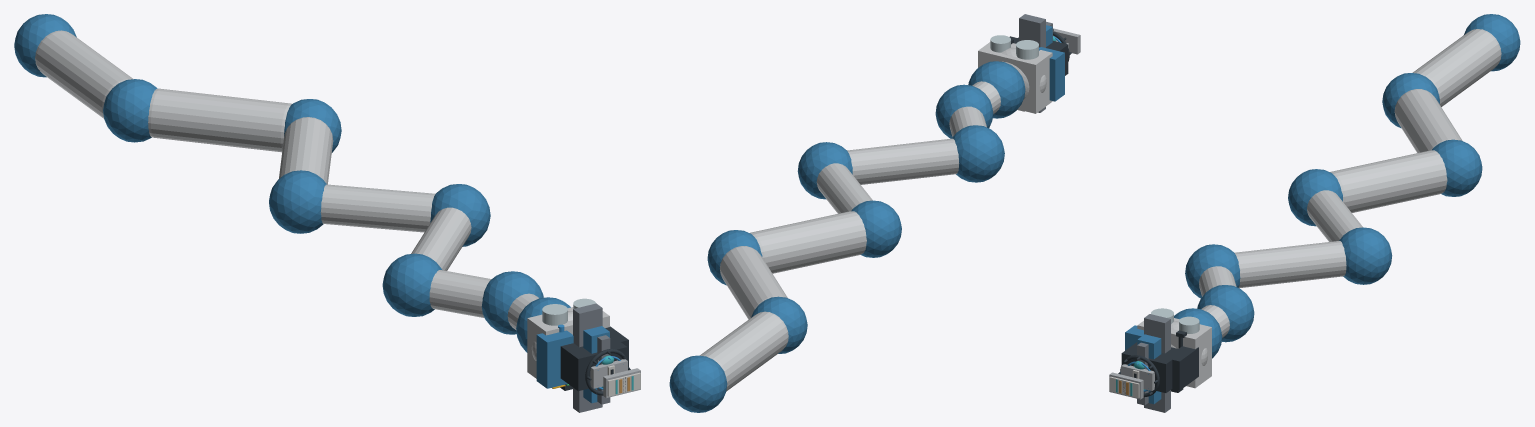
File: dranmar_franka_seal_divide_assembly.glb
3 renders of one model, left to right at view 1: azimuth 30°, elevation 25°; view 2: azimuth 150°, elevation 25°; view 3: azimuth 330°, elevation 25°, orthographic. The views are drawn at different scales.
Parts seen in each view (by area): view 1: ArmLink_01, ArmLink_03, ArmLink_00, ArmJoint_03, ArmJoint_05, ArmLink_02, ArmJoint_01, ArmLink_04, ArmLink_05, ArmJoint_06, ArmJoint_04, ArmJoint_00 (+6 smaller); view 2: ArmLink_02, ArmLink_04, ArmLink_00, ArmLink_01, ArmJoint_00, ArmJoint_05, ArmJoint_03, Mount_HousingCore, ArmJoint_07, ArmLink_03, ArmJoint_04, ArmJoint_06 (+8 smaller); view 3: ArmLink_02, ArmLink_04, ArmLink_00, ArmLink_01, ArmJoint_04, ArmJoint_02, ArmJoint_06, ArmLink_03, ArmJoint_03, ArmJoint_05, ArmJoint_00, ArmJoint_01 (+10 smaller).
Part boxes in pixels (x1,y1,x2,y2): ArmLink_01: [148, 88, 291, 152]; ArmLink_03: [320, 184, 435, 232]; ArmLink_00: [35, 30, 133, 118]; ArmJoint_03: [269, 170, 326, 233]; ArmJoint_05: [382, 253, 441, 316]; ArmLink_02: [279, 117, 333, 184]; ArmJoint_01: [103, 79, 157, 142]; ArmLink_04: [411, 207, 471, 270]; ArmLink_05: [429, 270, 491, 317]; ArmJoint_06: [481, 271, 543, 334]; ArmJoint_04: [430, 184, 490, 246]; ArmJoint_00: [14, 14, 76, 77]; ArmLink_02: [749, 211, 866, 273]; ArmLink_04: [847, 138, 959, 184]; ArmLink_00: [700, 311, 788, 391]; ArmLink_01: [720, 246, 787, 319]; ArmJoint_00: [669, 355, 727, 412]; ArmJoint_05: [952, 125, 1004, 182]; ArmJoint_03: [851, 200, 901, 257]; Mount_HousingCore: [978, 42, 1052, 113]; ArmJoint_07: [968, 61, 1025, 118]; ArmLink_03: [816, 163, 872, 213]; ArmJoint_04: [797, 142, 852, 199]; ArmJoint_06: [935, 84, 993, 138]; ArmLink_02: [1330, 150, 1447, 212]; ArmLink_04: [1234, 241, 1346, 288]; ArmLink_00: [1412, 29, 1501, 106]; ArmLink_01: [1394, 89, 1462, 152]; ArmJoint_04: [1339, 227, 1392, 284]; ArmJoint_02: [1432, 139, 1482, 196]; ArmJoint_06: [1197, 285, 1254, 342]; ArmLink_03: [1307, 190, 1362, 241]; ArmJoint_03: [1288, 169, 1342, 226]; ArmJoint_05: [1185, 244, 1240, 298]; ArmJoint_00: [1464, 14, 1520, 71]; ArmJoint_01: [1382, 73, 1439, 128].
Bounding box in the file's own units: 0.31 × 0.154 × 1.43.
